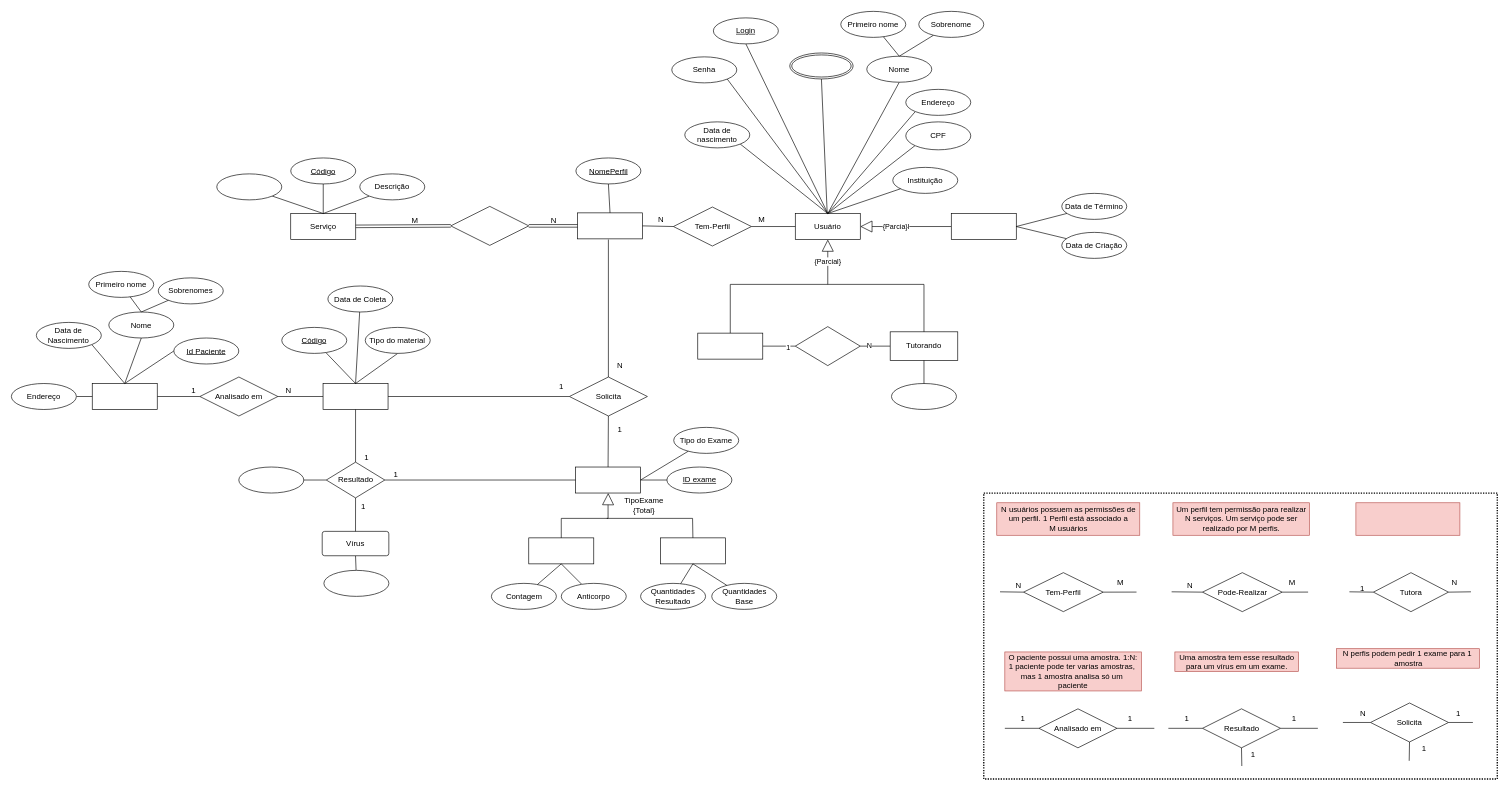
Some shapes in this 1509 by 791 pixel diagram are drawn without their labels. The centre of each missing label's shape, as x and y in pixels:
"Amostra" belongs at pixel 355 396.
"AntiCorpos" belongs at pixel 561 550.
"Eventual" belongs at pixel 983 226.
"Exame" belongs at pixel 608 479.
"Nome científico" belongs at pixel 356 583.
"Operações Permitidas" belongs at pixel 923 396.
"Paciente" belongs at pixel 124 396.
"PCR" belongs at pixel 692 550.
"Perfil" belongs at pixel 610 225.
"Pode Realizar" belongs at pixel 489 225.
"Positivo" belongs at pixel 271 479.
"Tipo" belongs at pixel 249 186.
"Tutor" belongs at pixel 730 345.
"Tutoria" belongs at pixel 827 346.
"Um usuário pode tutorar n usuários e ser tutorado por um tutorando" belongs at pixel 1407 518.
"Área de pesquisa" belongs at pixel 821 65.
